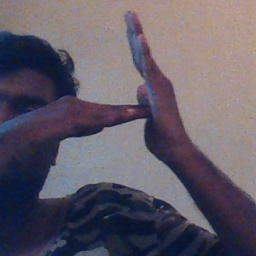Z: (77, 9, 188, 155)
